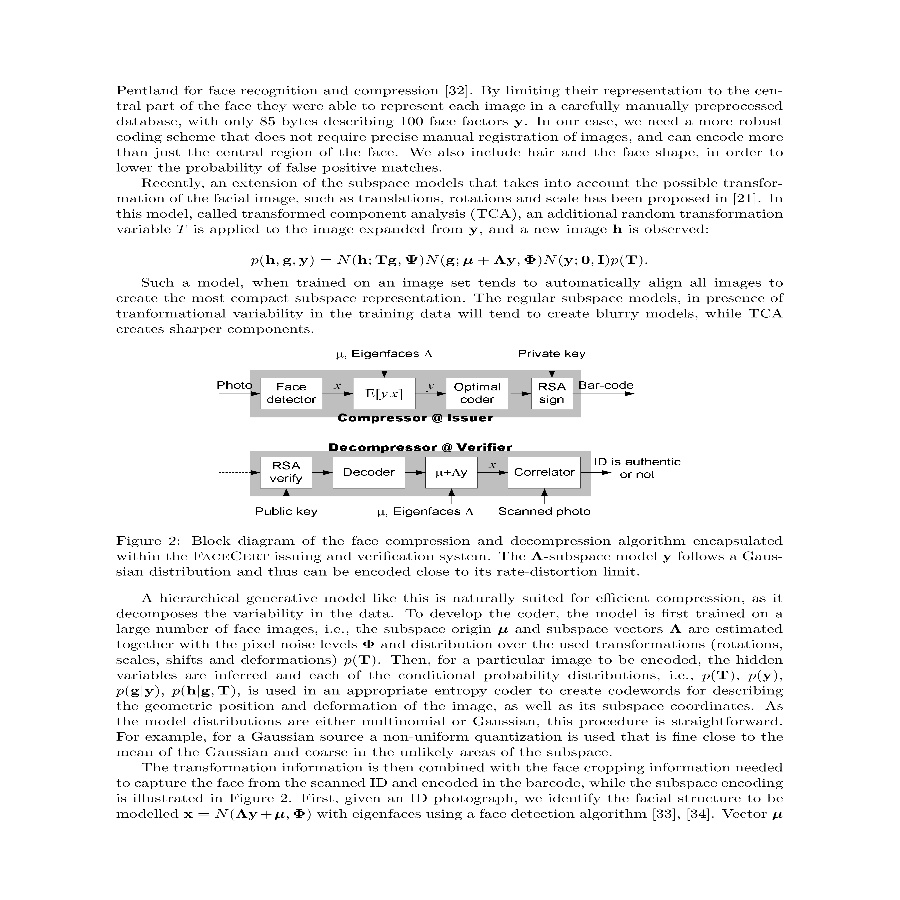eq: (247, 249, 646, 270)
